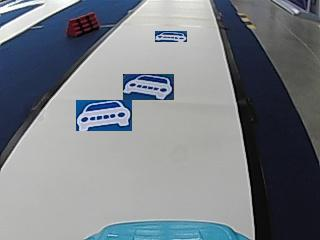bomb: (66, 10, 99, 36)
